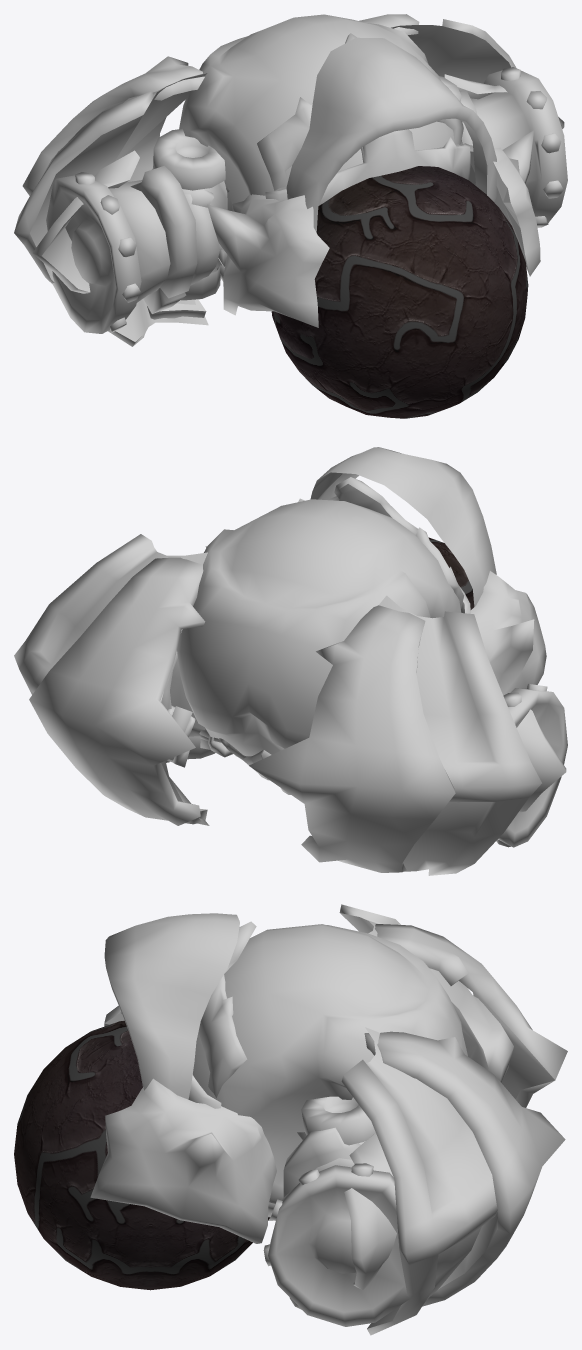
The picture shows the model from 3 angles, top to bottom: view 1: azimuth 30°, elevation 25°; view 2: azimuth 150°, elevation 25°; view 3: azimuth 270°, elevation 25°; orthographic projection. The views are drawn at different scales.
Visible parts, largest first — view 1: ironreaver01; view 2: ironreaver01; view 3: ironreaver01.
Part boxes in pixels (x1,y1,x2,y2): ironreaver01: (14, 14, 567, 418); ironreaver01: (14, 447, 567, 875); ironreaver01: (14, 904, 567, 1335).
Bounding box in the file's own units: 1.55 × 0.9442 × 1.33.
